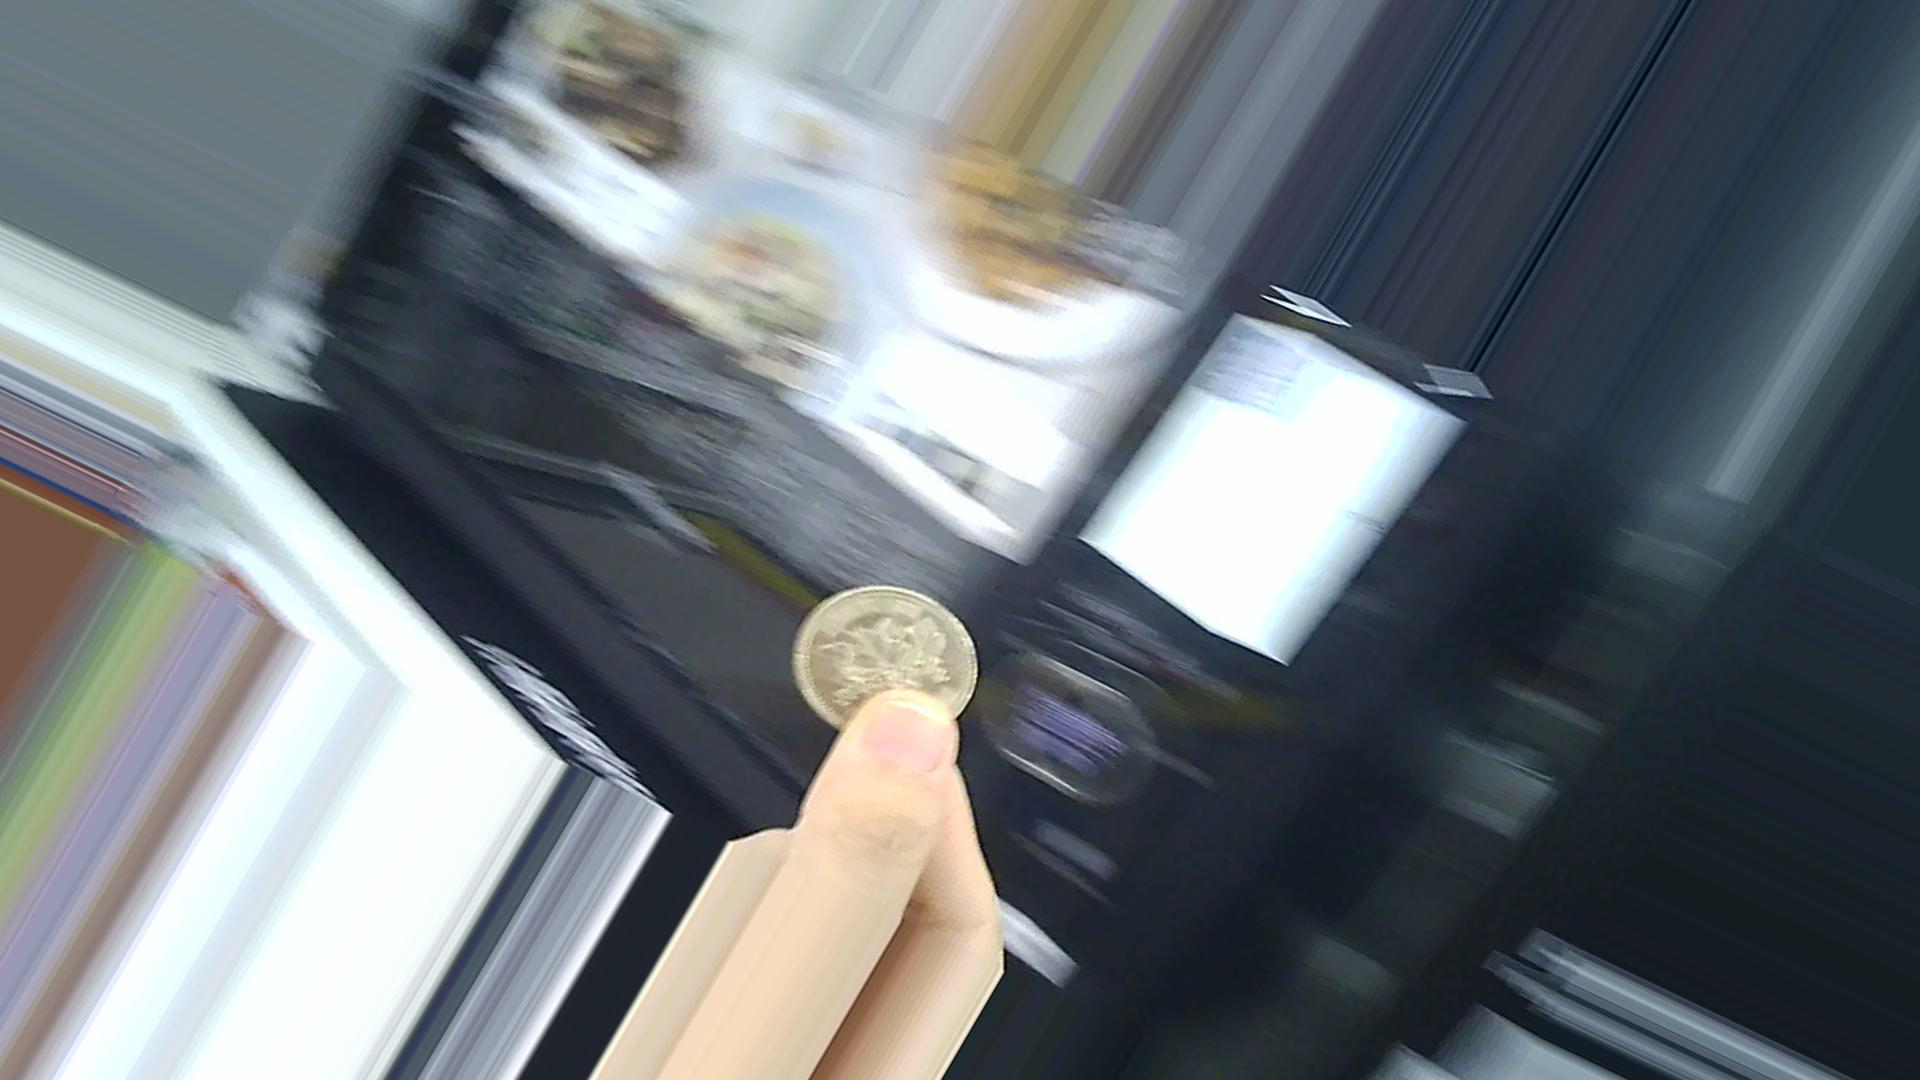500 Yen: (789, 574, 972, 738)
